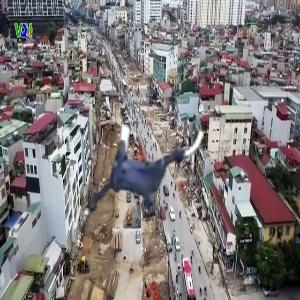drone: (80, 99, 212, 231)
